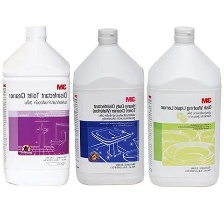cleaning_solution: (144, 24, 223, 190), (0, 23, 75, 190), (71, 26, 147, 188)
